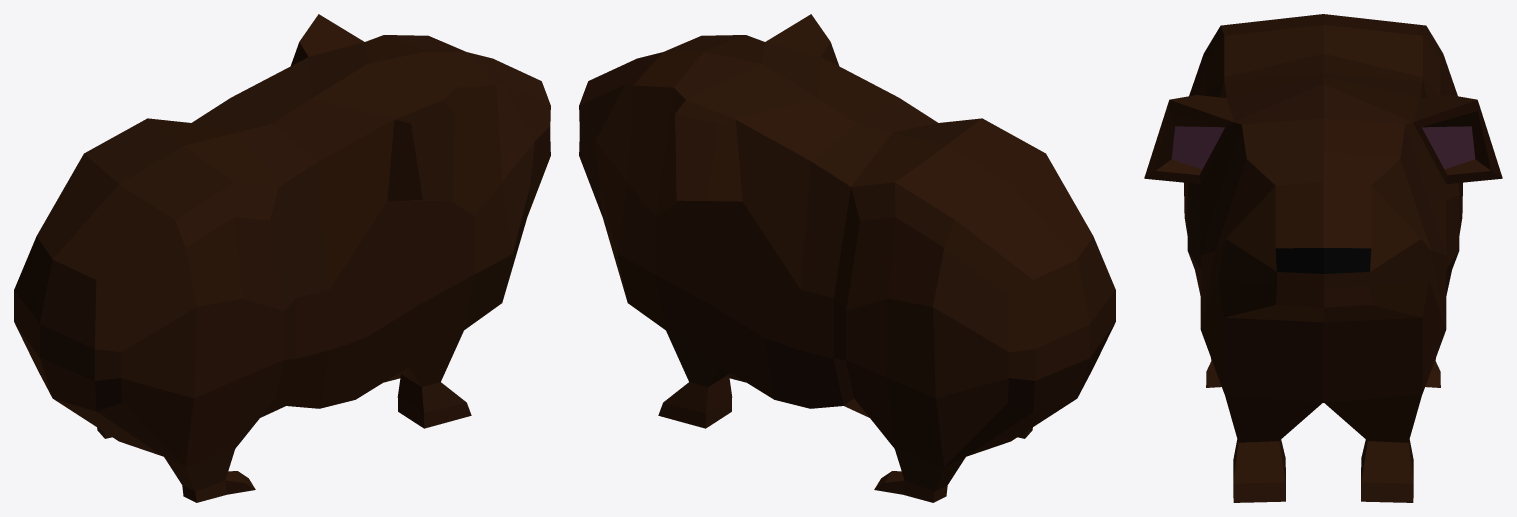
The model's file is guinea-pig.glb.
The picture shows the model from 3 angles, left to right: view 1: azimuth 30°, elevation 25°; view 2: azimuth 150°, elevation 25°; view 3: azimuth 270°, elevation 25°; orthographic projection. The views are drawn at different scales.
Visible parts, largest first — view 1: Cube; view 2: Cube; view 3: Cube.
Part boxes in pixels (x1,y1,x2,y2): Cube: (14,14,550,502); Cube: (579,14,1115,502); Cube: (1144,14,1502,502).
Bounding box in the file's own units: 364 × 242 × 199.
